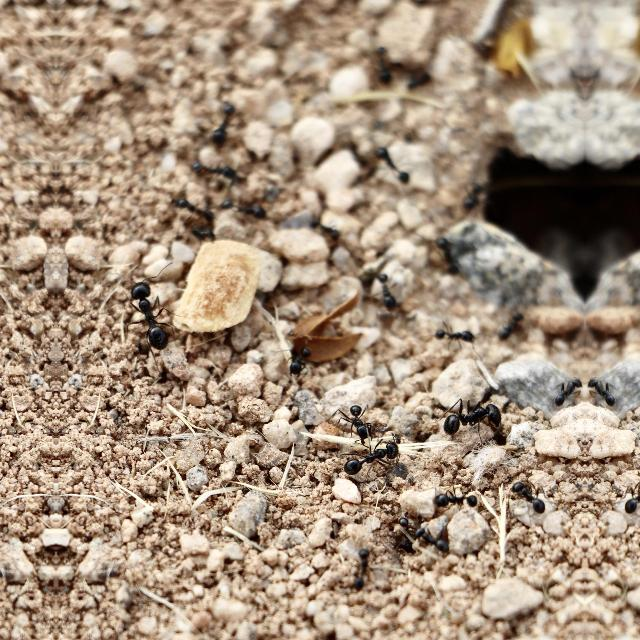Messor: (126, 272, 174, 356), (370, 140, 428, 204), (330, 436, 404, 476), (439, 395, 506, 439), (505, 476, 557, 526), (326, 384, 372, 440), (153, 189, 214, 227), (364, 272, 411, 318), (428, 316, 484, 354), (331, 548, 381, 588), (192, 158, 250, 192), (429, 486, 489, 518), (219, 195, 279, 227), (206, 96, 240, 152), (420, 236, 460, 276), (408, 518, 447, 558), (611, 475, 640, 526), (282, 342, 320, 376), (372, 492, 414, 522), (452, 182, 492, 210), (174, 226, 222, 248), (498, 298, 522, 340)
